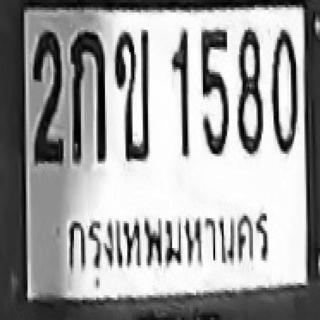A01: (70, 30, 105, 161)
A02: (113, 27, 149, 159)
N00: (270, 27, 298, 154)
N01: (170, 29, 189, 158)
N02: (32, 26, 63, 162)
N05: (200, 27, 229, 156)
N08: (236, 29, 263, 155)
P04: (62, 201, 271, 288)
